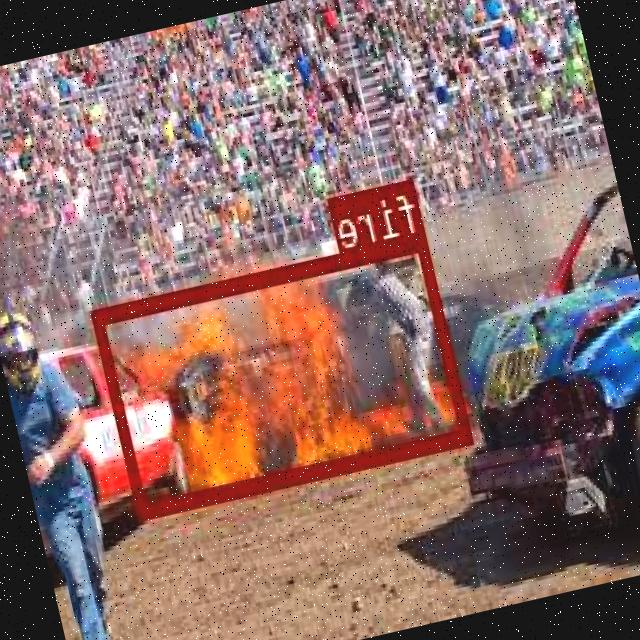fire: (92, 230, 475, 518)
